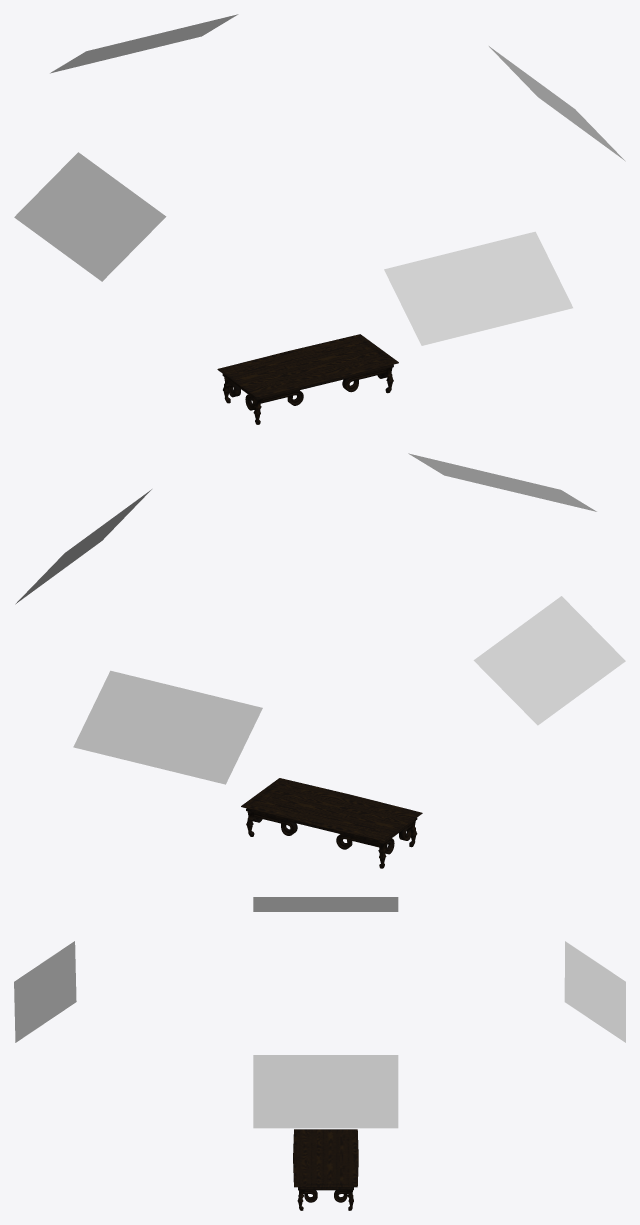
File: VictorianTable.obj
The picture shows the model from 3 angles, top to bottom: view 1: azimuth 30°, elevation 25°; view 2: azimuth 150°, elevation 25°; view 3: azimuth 270°, elevation 25°; orthographic projection. The views are drawn at different scales.
Parts seen in each view (by area): view 1: Plane.003, Plane, Victorian_Table, Plane.002, Plane.001; view 2: Plane.002, Plane, Victorian_Table, Plane.003, Plane.001; view 3: Plane.001, Victorian_Table, Plane.003, Plane.002, Plane.
Boxes of the visible parts, box(x1,y1,x2,y2) form: Plane.003: box(384, 231, 572, 345); Plane: box(14, 152, 166, 281); Victorian_Table: box(217, 334, 398, 424); Plane.002: box(50, 14, 238, 73); Plane.001: box(489, 46, 625, 161); Plane.002: box(73, 670, 262, 784); Plane: box(473, 596, 625, 725); Victorian_Table: box(241, 778, 422, 868); Plane.003: box(408, 453, 596, 511); Plane.001: box(15, 489, 151, 604); Plane.001: box(253, 1055, 398, 1128); Victorian_Table: box(293, 1129, 358, 1210); Plane.003: box(14, 941, 76, 1042); Plane.002: box(564, 941, 625, 1042); Plane: box(253, 897, 398, 911).
Size of the model in its own units: 13.11 by 6.36 by 16.14.
2 materials, 1 textured.
